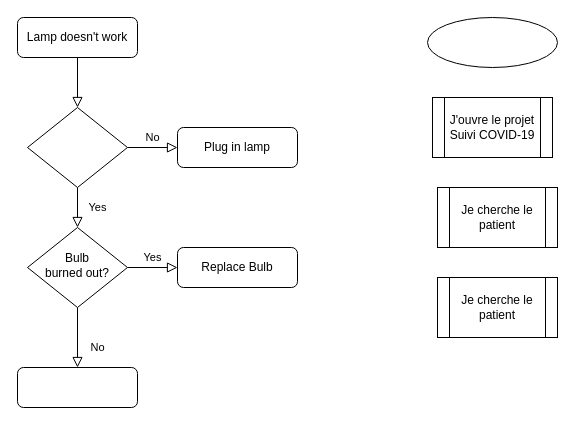
Some shapes in this 575 by 425 pixel diagram are drawn without their labels. The centre of each missing label's shape, as x and y in pixels:
Lamp plugged in?: the point at 77,147
Objectif: appeler le patient: the point at 492,42
Repair Lamp: the point at 77,387
